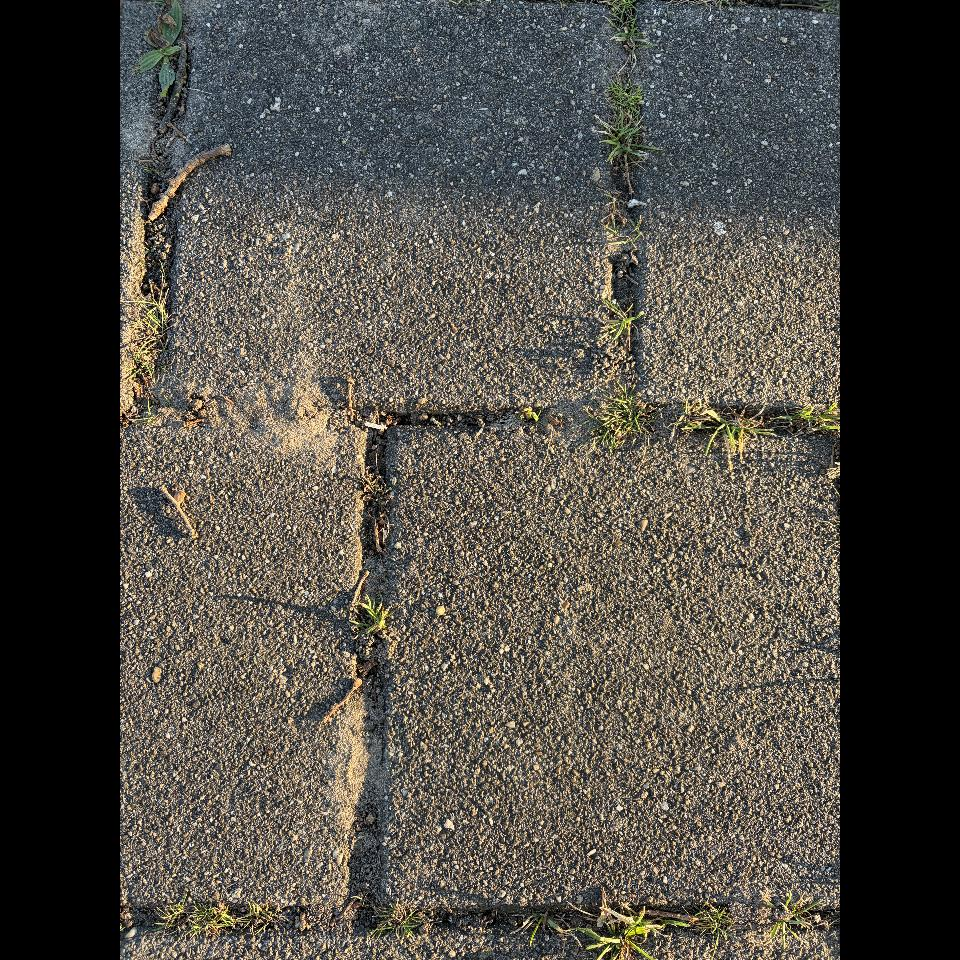weed: (567, 904, 690, 960), (578, 377, 664, 455), (133, 1, 182, 97), (701, 402, 776, 461), (595, 110, 662, 166), (761, 890, 820, 949), (691, 896, 735, 960), (349, 592, 404, 640), (369, 898, 427, 942), (595, 298, 643, 346), (774, 402, 840, 434), (235, 896, 285, 936), (604, 75, 647, 116), (511, 914, 561, 947), (149, 891, 188, 932), (362, 465, 393, 513), (671, 398, 716, 430), (604, 15, 648, 44), (206, 904, 238, 931), (599, 0, 638, 20), (631, 44, 658, 72), (190, 899, 214, 921), (183, 918, 207, 939), (526, 408, 551, 427), (120, 366, 147, 383), (601, 215, 619, 237), (609, 234, 640, 245), (611, 13, 632, 27), (351, 892, 368, 907), (629, 215, 642, 234), (605, 194, 616, 211), (136, 416, 155, 425), (145, 396, 151, 415), (144, 167, 159, 174), (163, 394, 170, 404), (150, 401, 155, 408)
